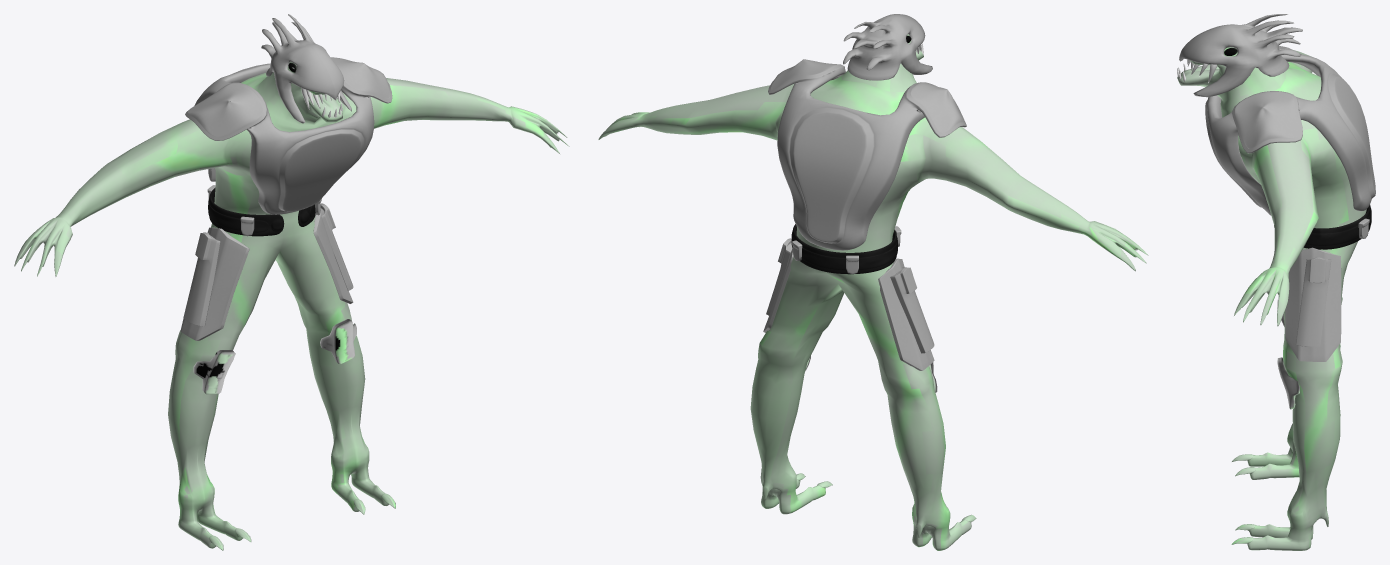
File: aliensoldado.obj
3 views of the same model, side by side, from view 1: azimuth 30°, elevation 25°; view 2: azimuth 150°, elevation 25°; view 3: azimuth 270°, elevation 25° (orthographic).
Parts seen in each view (by area): view 1: pCube41; view 2: pCube41; view 3: pCube41.
Boxes of the visible parts, x1,y1,x2,y2 form: pCube41: [14, 14, 569, 550]; pCube41: [598, 14, 1148, 550]; pCube41: [1177, 14, 1375, 550].
Bounding box in the file's own units: 8.9 × 7.75 × 2.84.
Materials: 1 (1 with a texture image).
